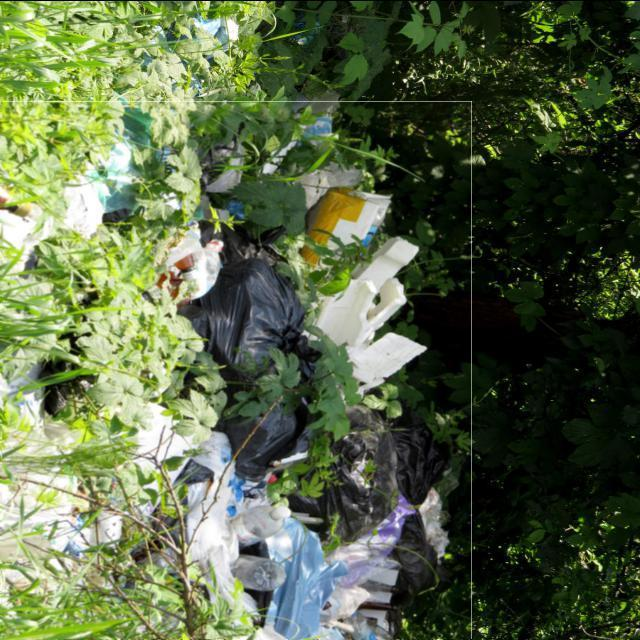Trashbag: (216, 244, 312, 380)
